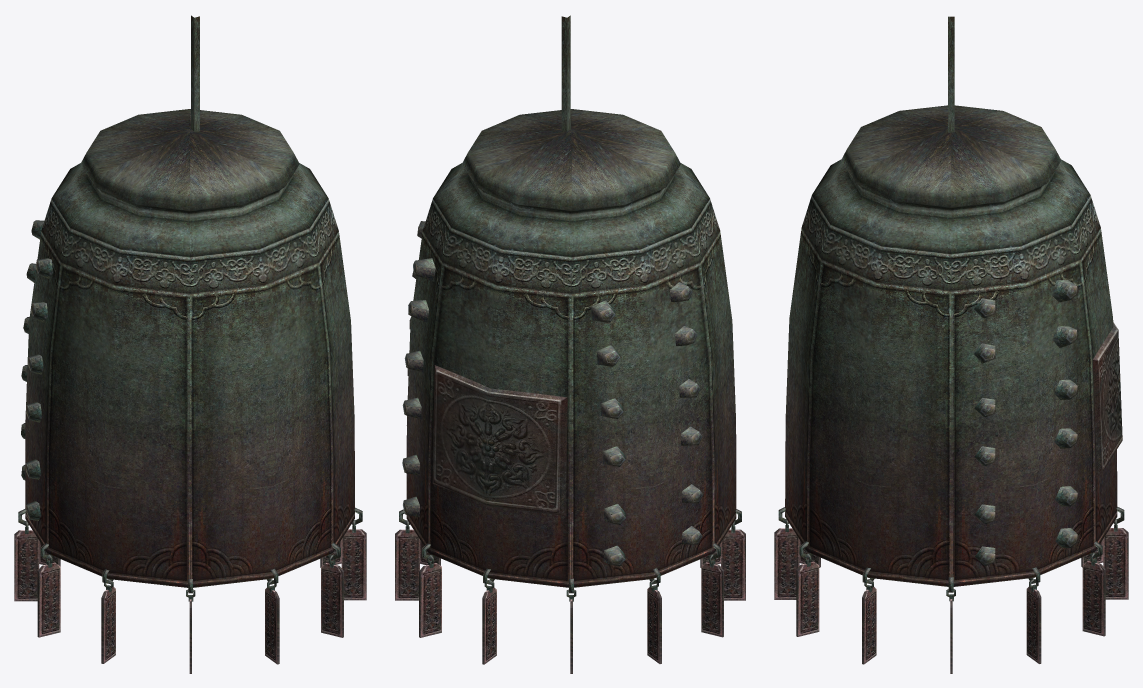
Rendered from dmw_bossroom_bell.glb.
3 views of the same model, side by side, from view 1: azimuth 30°, elevation 25°; view 2: azimuth 150°, elevation 25°; view 3: azimuth 270°, elevation 25° (orthographic).
Visible parts, largest first — view 1: dmw_boss_bell01; view 2: dmw_boss_bell01; view 3: dmw_boss_bell01.
Boxes of the visible parts, x1=… form: dmw_boss_bell01: x1=14, y1=15, x2=366, y2=673; dmw_boss_bell01: x1=395, y1=15, x2=745, y2=673; dmw_boss_bell01: x1=774, y1=16, x2=1128, y2=673.
Size of the model in its own units: 11.55 by 21.12 by 11.56.
Materials: 1 (1 with a texture image).
